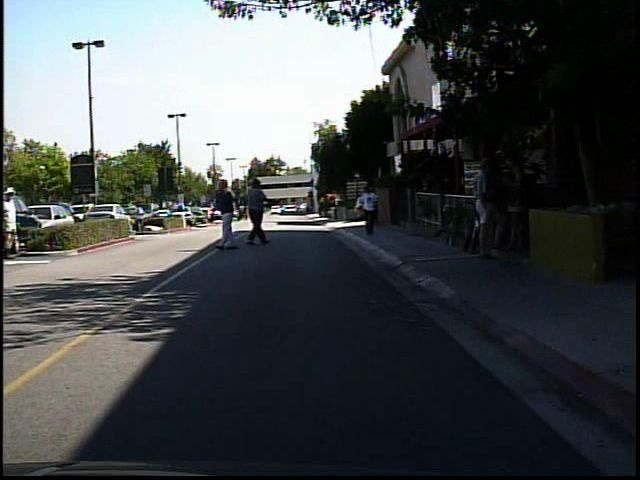person: (465, 149, 505, 262), (498, 155, 528, 255), (212, 175, 246, 252), (242, 174, 275, 249), (4, 182, 26, 262), (356, 178, 384, 238), (173, 195, 189, 227), (245, 199, 261, 224)
